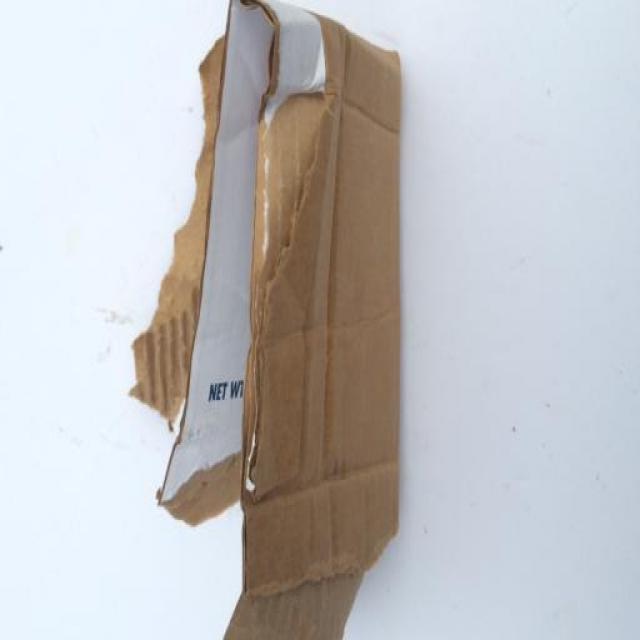cardboard: (136, 1, 406, 640)
